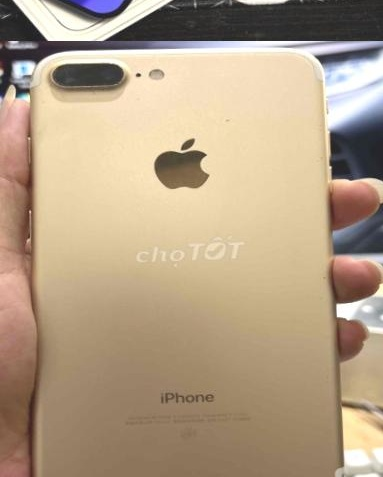scratch: (38, 73, 126, 107), (311, 114, 333, 179), (205, 106, 244, 128), (310, 270, 336, 291)
